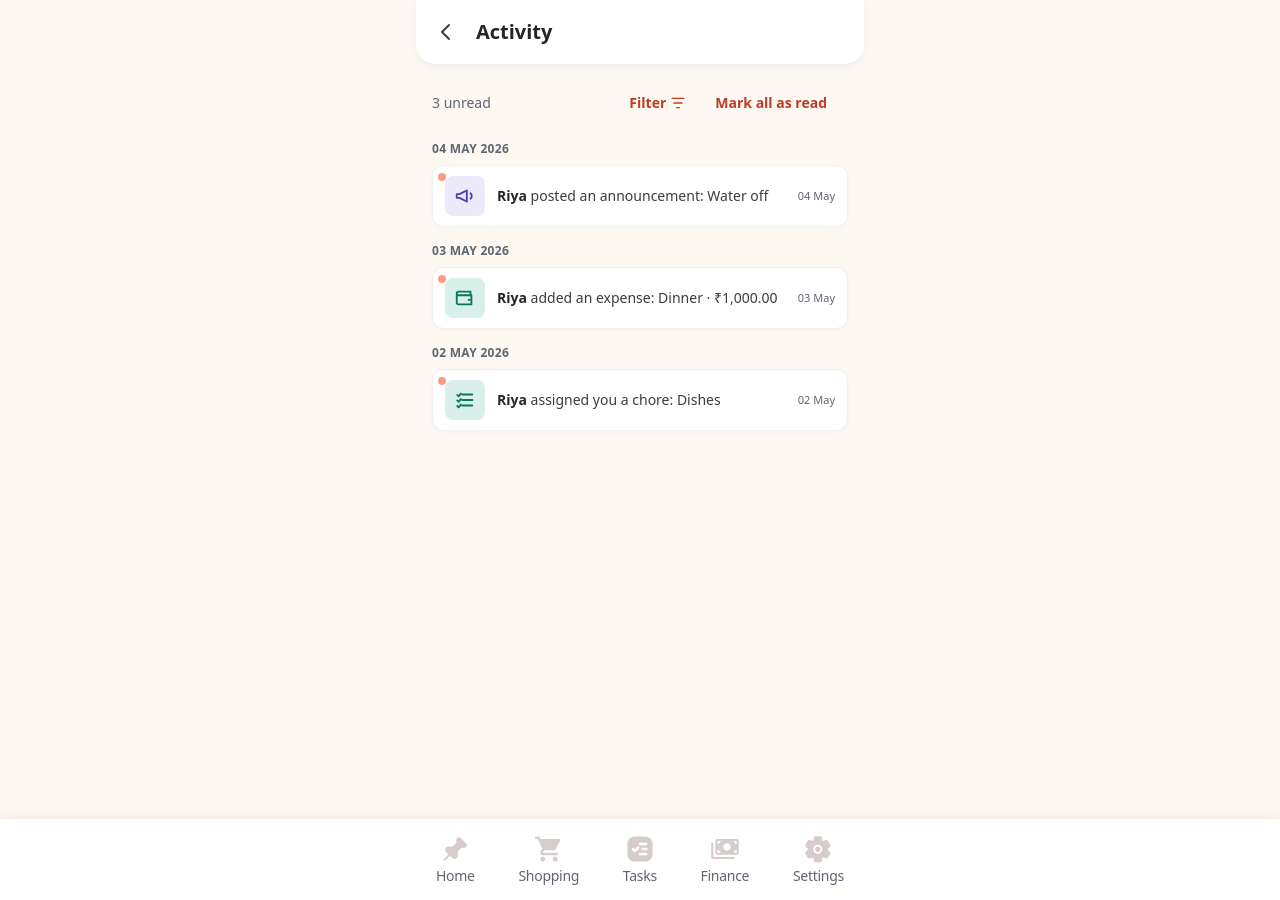
activity centre › opening an update marks it read and goes to the right screen
Click the link "Riya assigned you a chore: Dishes 02 May".
click(640, 400)  # box [432,369,848,431]
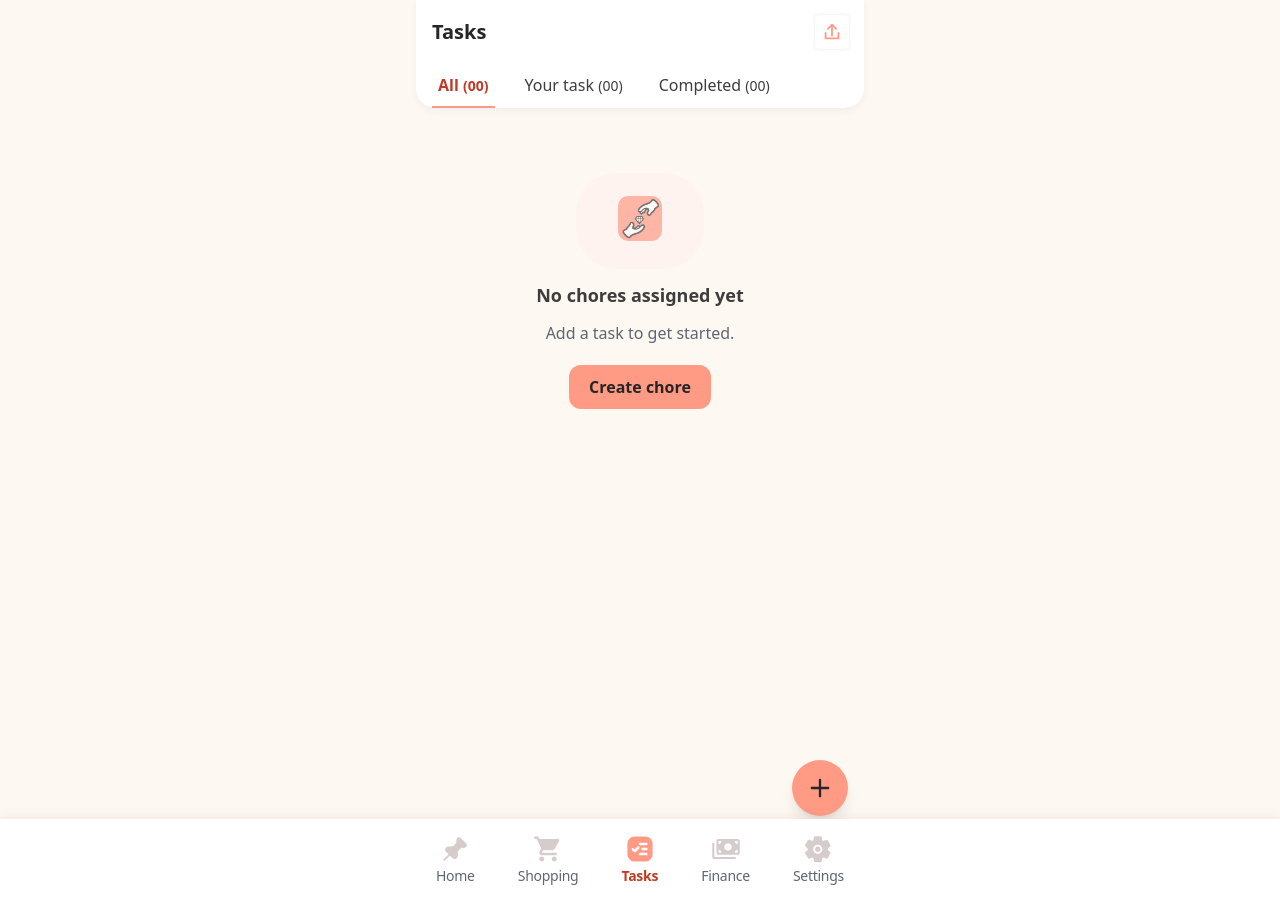
Result: the heading "Tasks" is shown at [432,18,486,45]
